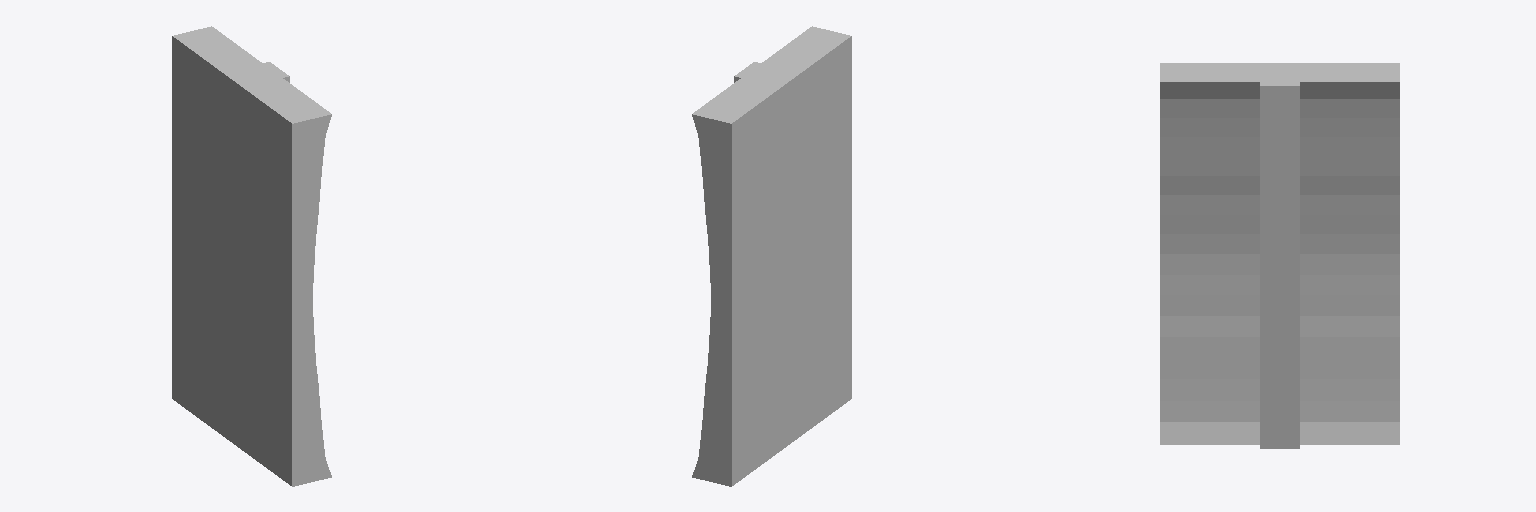
The model's file is Wall.obj.
3 views of the same model, side by side, from view 1: azimuth 30°, elevation 25°; view 2: azimuth 150°, elevation 25°; view 3: azimuth 270°, elevation 25° (orthographic).
Parts seen in each view (by area): view 1: polySurface16.005; view 2: polySurface16.005; view 3: polySurface16.005.
Boxes of the visible parts, x1,y1,x2,y2 form: polySurface16.005: [172, 26, 331, 486]; polySurface16.005: [692, 26, 851, 486]; polySurface16.005: [1160, 63, 1399, 448].
Size of the model in its own units: 1.36 by 10.02 by 6.